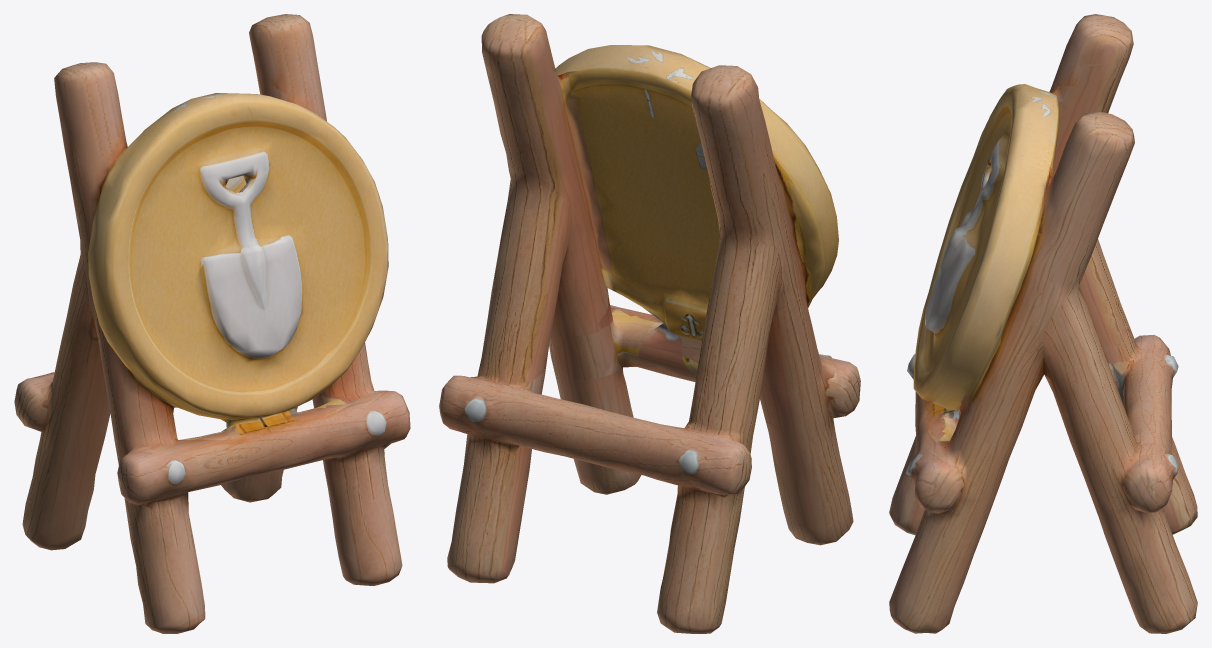
The model's file is Prop_ConstructionSign.glb.
3 renders of one model, left to right at view 1: azimuth 30°, elevation 25°; view 2: azimuth 150°, elevation 25°; view 3: azimuth 270°, elevation 25°, orthographic. The views are drawn at different scales.
Visible parts, largest first — view 1: input; view 2: input; view 3: input.
Part boxes in pixels (x1,y1,x2,y2): input: (14,14,410,633); input: (439,14,860,633); input: (889,14,1197,633).
Size of the model in its own units: 0.5916 by 1 by 0.5504.
Materials: 1 (1 with a texture image).
